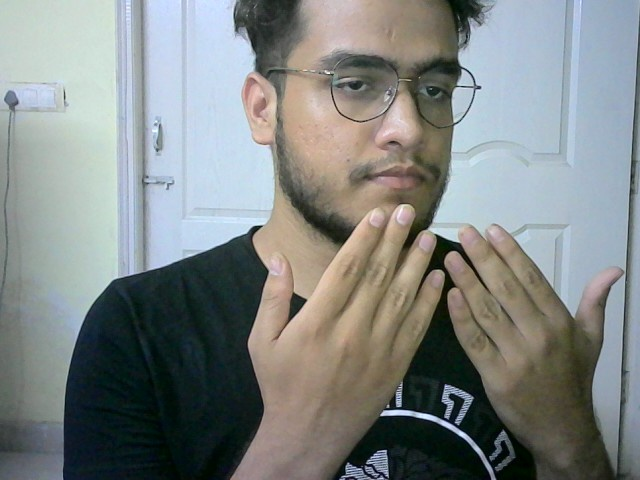Thank You: (239, 207, 618, 430)
